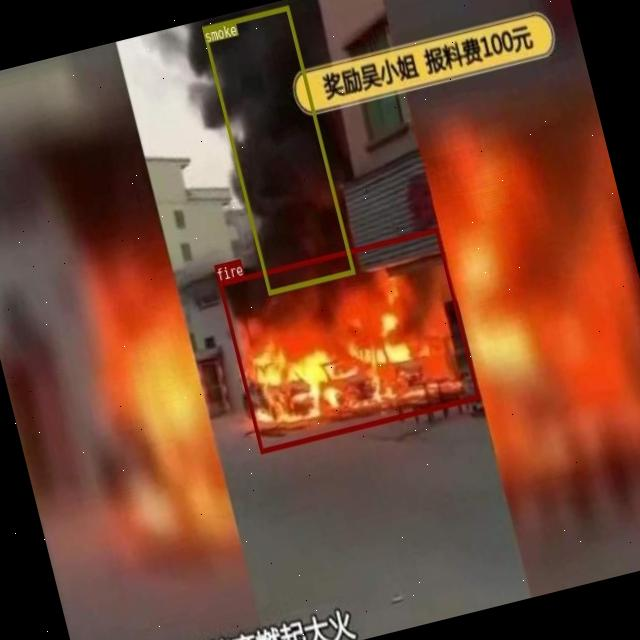fire: (217, 227, 478, 453)
smoke: (202, 5, 354, 294)
